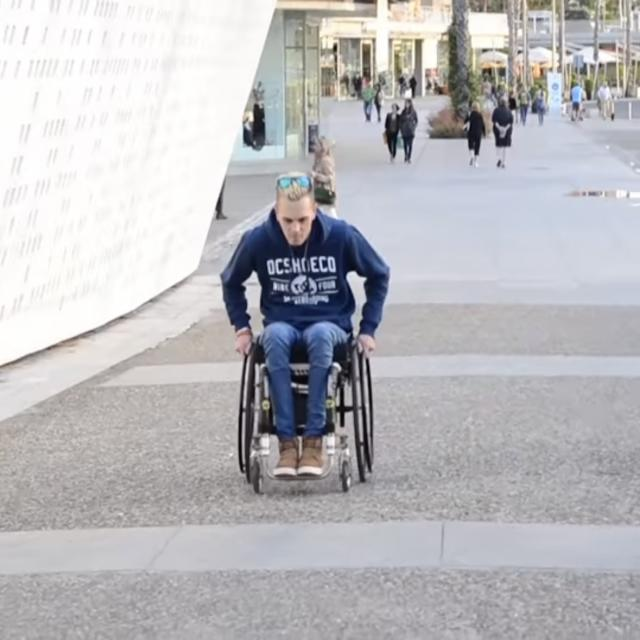wheelchairs: (237, 274, 376, 493)
